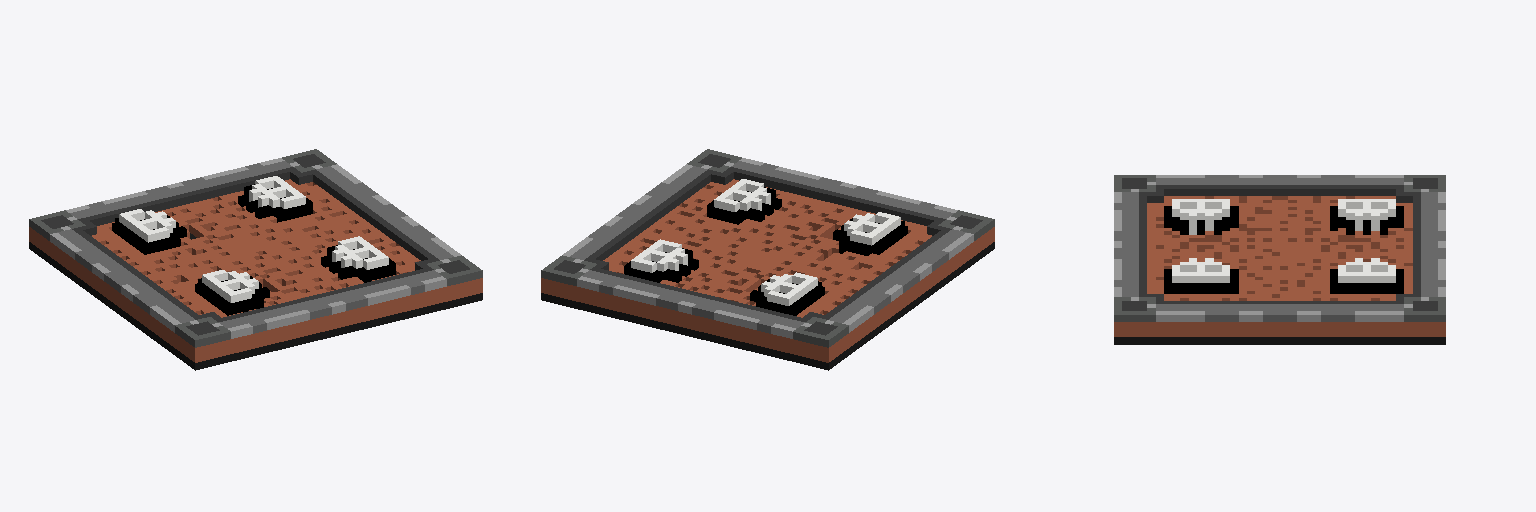
The picture shows the model from 3 angles: view 1: azimuth 30°, elevation 25°; view 2: azimuth 150°, elevation 25°; view 3: azimuth 270°, elevation 25°; orthographic projection.
Visible parts, largest first — view 1: object 1; view 2: object 1; view 3: object 1.
Part boxes in pixels (bbox=[...]): object 1: bbox=[29, 149, 482, 370]; object 1: bbox=[541, 149, 994, 370]; object 1: bbox=[1114, 175, 1445, 344].
Bounding box in the file's own units: 4 × 0.5 × 4.
Materials: 1 (1 with a texture image).